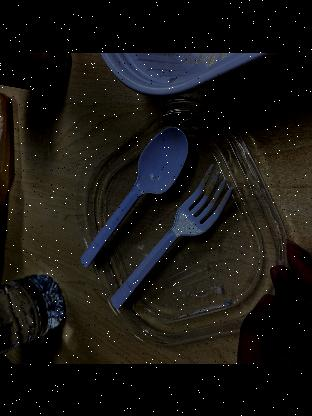Others: (108, 157, 244, 311), (75, 120, 193, 278)
